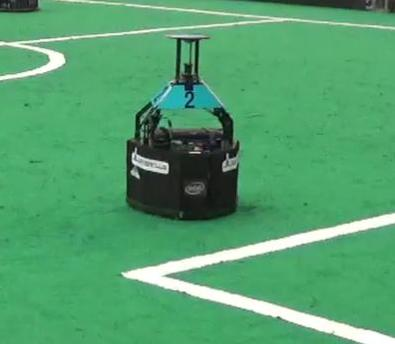robot: (125, 32, 240, 221)
